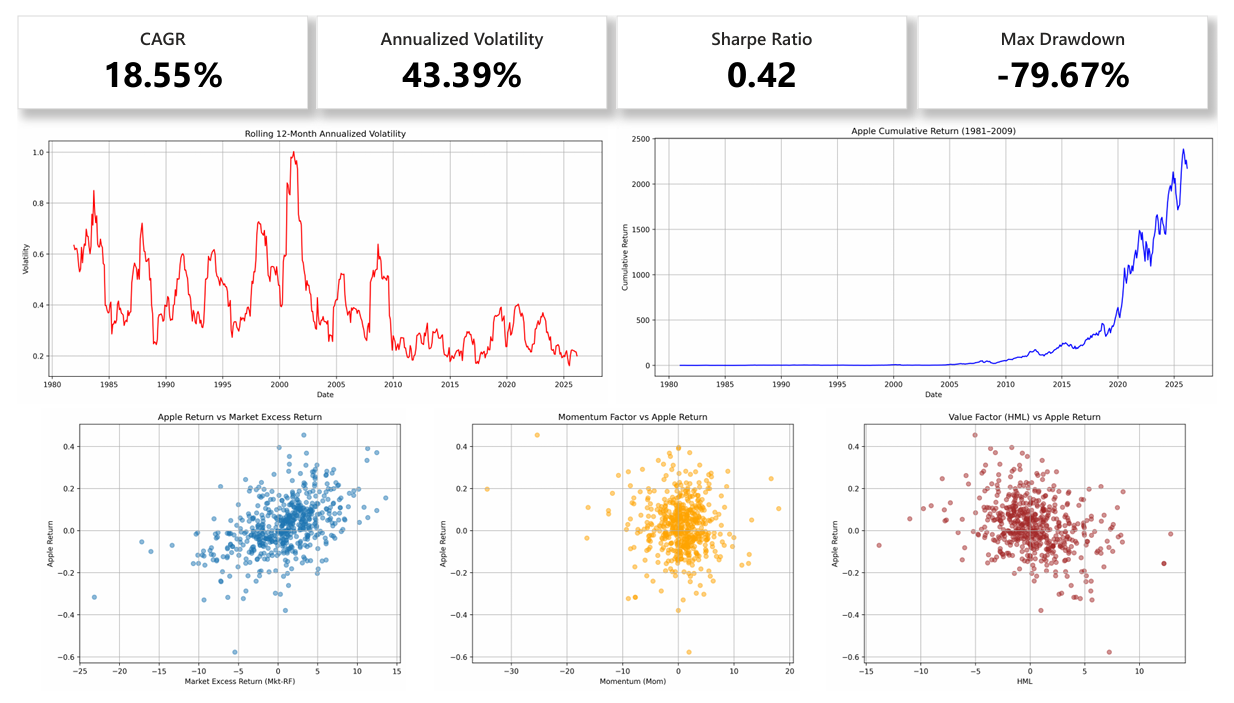

This screenshot's page, from the dashboard's own definition file:
{"tool":"powerbi","page":{"name":"Page 1","canvas":[1280,720],"ordinal":0},"visuals":[{"type":"image","box":[639.4,100.1,640.6,328.2],"z":1000},{"type":"image","box":[836.1,418.6,441.6,301.6],"z":2000},{"type":"image","box":[0,418.6,441,301.6],"z":3000},{"type":"image","box":[418.6,418.6,441.6,301.6],"z":4000},{"type":"image","box":[0,74.8,628.6,380],"z":5000},{"type":"textbox","box":[0,0,310.1,100.1],"z":6000},{"type":"textbox","box":[318.5,0,310.1,100.1],"z":7000},{"type":"textbox","box":[639.4,0,310.1,100.1],"z":8000},{"type":"textbox","box":[960.3,0,310.1,100.1],"z":9000}]}

Visuals, with their boxes in screenshot pixels (x1, y1, x2, y2), scaled from the page's 1280x720 canvas onto the 1234x703 screenshot:
image: (616,98,1233,418)
image: (806,409,1232,702)
image: (0,409,425,702)
image: (404,409,829,702)
image: (0,73,606,444)
textbox: (0,0,299,98)
textbox: (307,0,606,98)
textbox: (616,0,915,98)
textbox: (926,0,1225,98)
